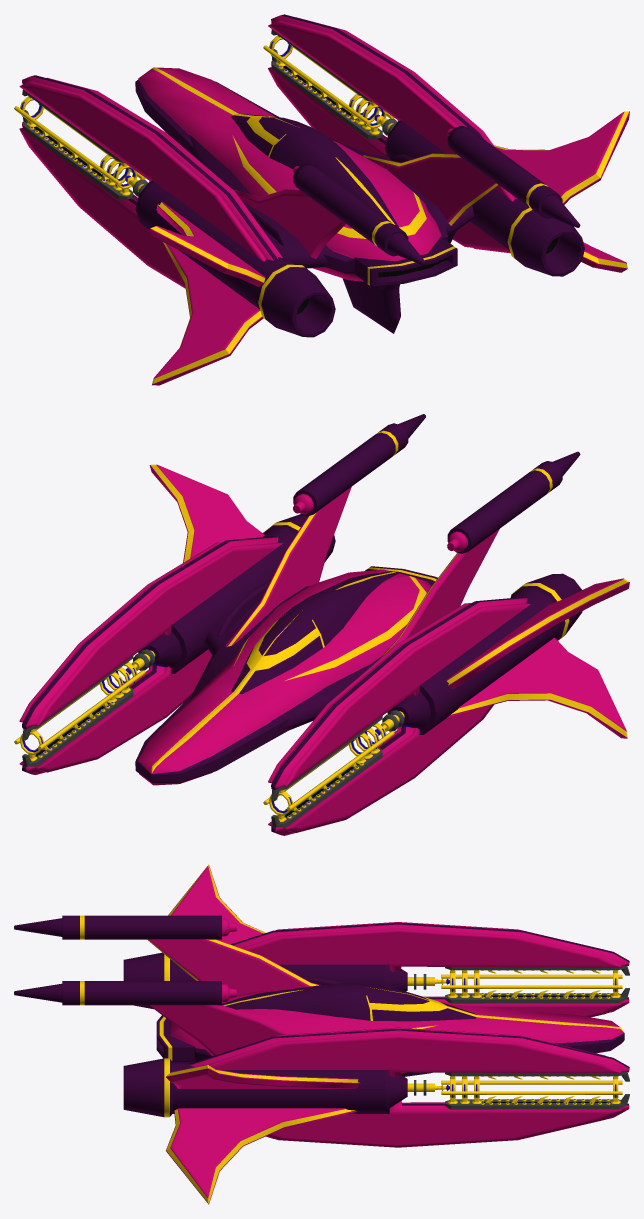
File: AlienStarfighter22.obj
3 renders of one model, top to bottom at view 1: azimuth 30°, elevation 25°; view 2: azimuth 150°, elevation 25°; view 3: azimuth 270°, elevation 25°, orthographic. The views are drawn at different scales.
Visible parts, largest first — view 1: Cylinder.003_Cylinder.005, Sphere.002_Sphere.004, Cylinder.001_Cylinder.006, Cylinder.004_Cylinder.002, Cube.001, Cube.005, Cube.004_Cube.002, Sphere.001_Sphere.003, Cylinder.010_Cylinder.003, Cube.006, Cylinder.006_Cylinder.007, Cylinder.022_Cylinder.030 (+1 smaller); view 2: Cylinder.003_Cylinder.005, Sphere.002_Sphere.004, Cylinder.001_Cylinder.006, Cylinder.004_Cylinder.002, Cube.005, Cube.001, Sphere.001_Sphere.003, Cube.004_Cube.002, Cylinder.010_Cylinder.003, Cube.006, Cylinder.022_Cylinder.030, Cube.008_Cube.007; view 3: Cylinder.003_Cylinder.005, Cylinder.001_Cylinder.006, Cylinder.004_Cylinder.002, Sphere.002_Sphere.004, Cube.001, Cube.004_Cube.002, Sphere.001_Sphere.003, Cube.005, Cube.006, Cylinder.022_Cylinder.030, Cylinder.011_Cylinder.015, Cube.007_Cube.008.
Boxes of the visible parts, box(x1,y1,x2,y2) form: Cylinder.003_Cylinder.005: box(19, 14, 517, 288); Sphere.002_Sphere.004: box(135, 67, 457, 286); Cylinder.001_Cylinder.006: box(125, 114, 584, 337); Cylinder.004_Cylinder.002: box(293, 125, 580, 265); Cube.001: box(233, 153, 498, 258); Cube.005: box(149, 111, 629, 286); Cube.004_Cube.002: box(152, 242, 627, 385); Sphere.001_Sphere.003: box(231, 114, 398, 227); Cylinder.010_Cylinder.003: box(185, 134, 474, 268); Cube.006: box(22, 29, 382, 200); Cylinder.006_Cylinder.007: box(342, 278, 400, 333); Cylinder.022_Cylinder.030: box(14, 42, 394, 186); Cylinder.003_Cylinder.005: box(19, 536, 530, 835); Sphere.002_Sphere.004: box(135, 566, 437, 785); Cylinder.001_Cylinder.006: box(125, 514, 582, 735); Cylinder.004_Cylinder.002: box(293, 414, 580, 553); Cube.005: box(149, 464, 629, 689); Cube.001: box(225, 487, 499, 659); Sphere.001_Sphere.003: box(231, 571, 398, 693); Cube.004_Cube.002: box(447, 637, 627, 738); Cylinder.010_Cylinder.003: box(190, 585, 381, 729); Cube.006: box(22, 656, 382, 827); Cylinder.022_Cylinder.030: box(14, 670, 394, 810); Cube.008_Cube.007: box(217, 580, 270, 636); Cylinder.003_Cylinder.005: box(190, 922, 629, 1147); Cylinder.001_Cylinder.006: box(123, 952, 449, 1117); Cylinder.004_Cylinder.002: box(14, 915, 236, 1005); Sphere.002_Sphere.004: box(156, 991, 624, 1073); Cube.001: box(147, 939, 320, 1056); Cube.004_Cube.002: box(166, 1108, 356, 1204); Sphere.001_Sphere.003: box(222, 983, 477, 1021); Cube.005: box(166, 864, 360, 1088); Cube.006: box(445, 966, 629, 1109); Cylinder.022_Cylinder.030: box(441, 974, 622, 1094); Cylinder.011_Cylinder.015: box(480, 970, 610, 1104); Cube.007_Cube.008: box(485, 970, 600, 1102).
Bounding box in the file's own units: 6.19 × 2.25 × 7.88.
